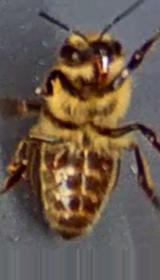varroa_mite: (84, 146, 116, 179), (42, 138, 73, 170)
